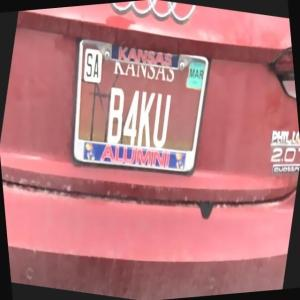Plate: (72, 41, 208, 173)
